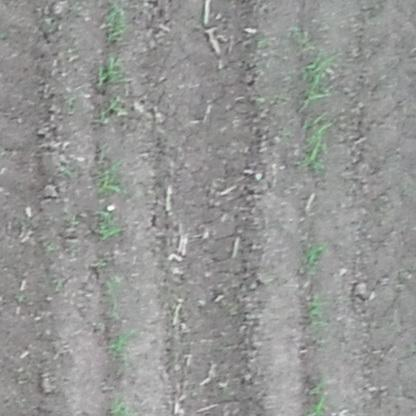corn: (298, 38, 339, 99), (299, 111, 336, 173), (90, 158, 130, 195), (101, 322, 136, 360), (91, 58, 133, 88), (303, 370, 331, 411), (91, 210, 127, 241), (304, 295, 331, 334), (102, 3, 128, 43), (301, 239, 331, 273)
